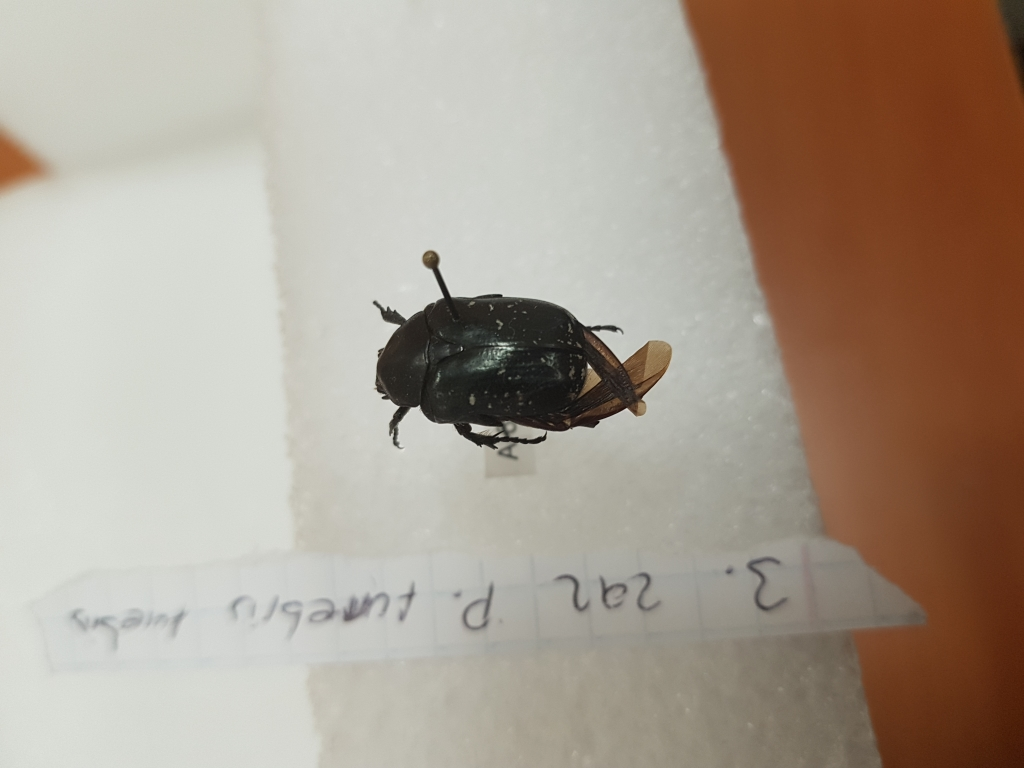Protaetia_funebris_funebris: (359, 284, 697, 441)
